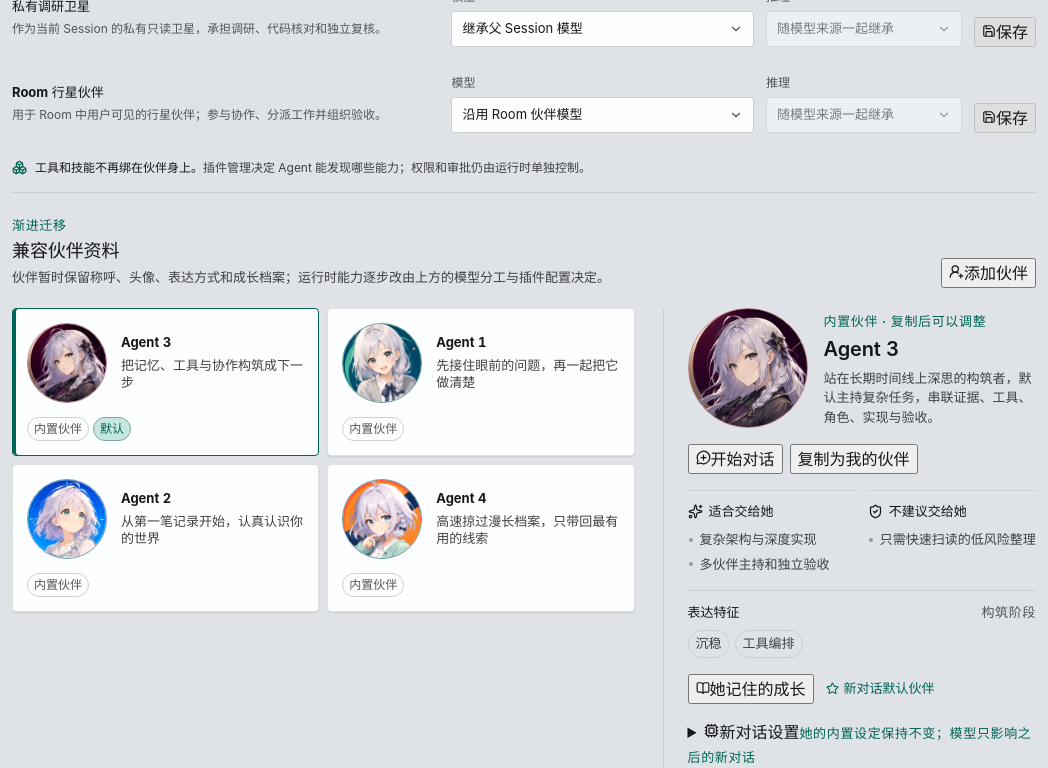
Test: Roles experience › makes model routing primary while keeping companion identity as migration compatibility
The width and height of the screenshot is (1048, 768).
(page scrolled)
expect the text "Room 行星伙伴" is shown: met, box x1=12 y1=84 x2=104 y2=100
expect the dropdown named "Room 行星伙伴默认模型" is shown: met, box x1=451 y1=96 x2=754 y2=132
Click the text "新对话设置".
click(759, 732)  # box x1=719 y1=722 x2=799 y2=742
(page scrolled)
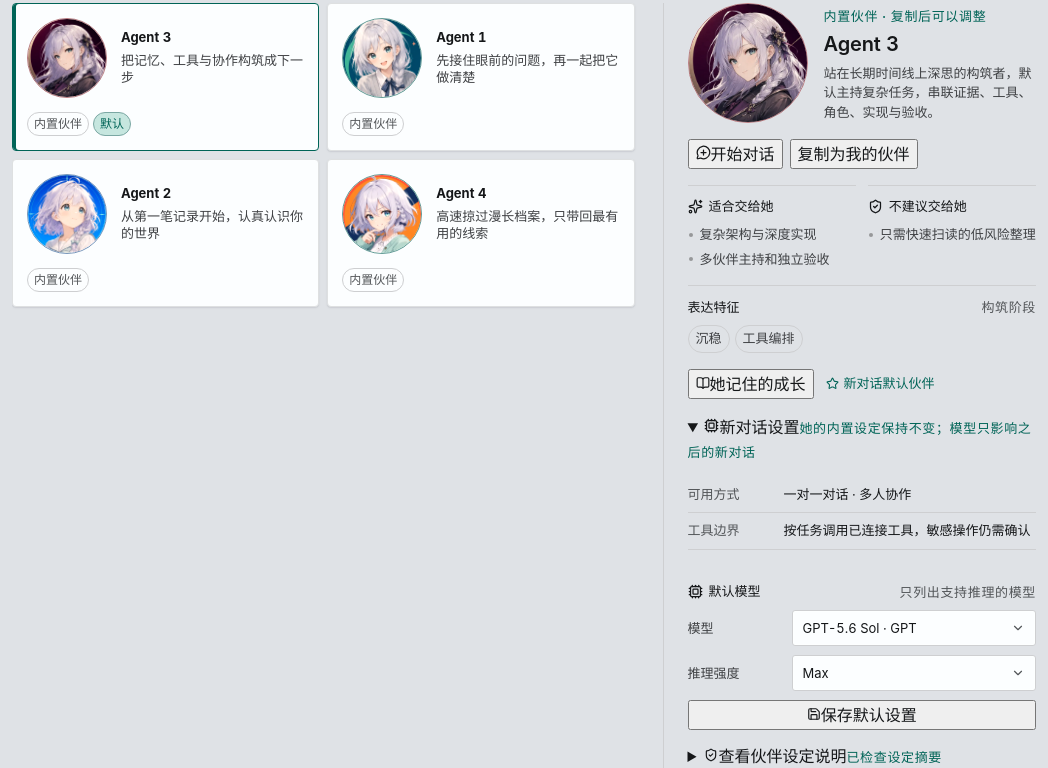
expect the text "GPT-5.6 Sol · GPT" is shown: met, box x1=802 y1=618 x2=917 y2=638
